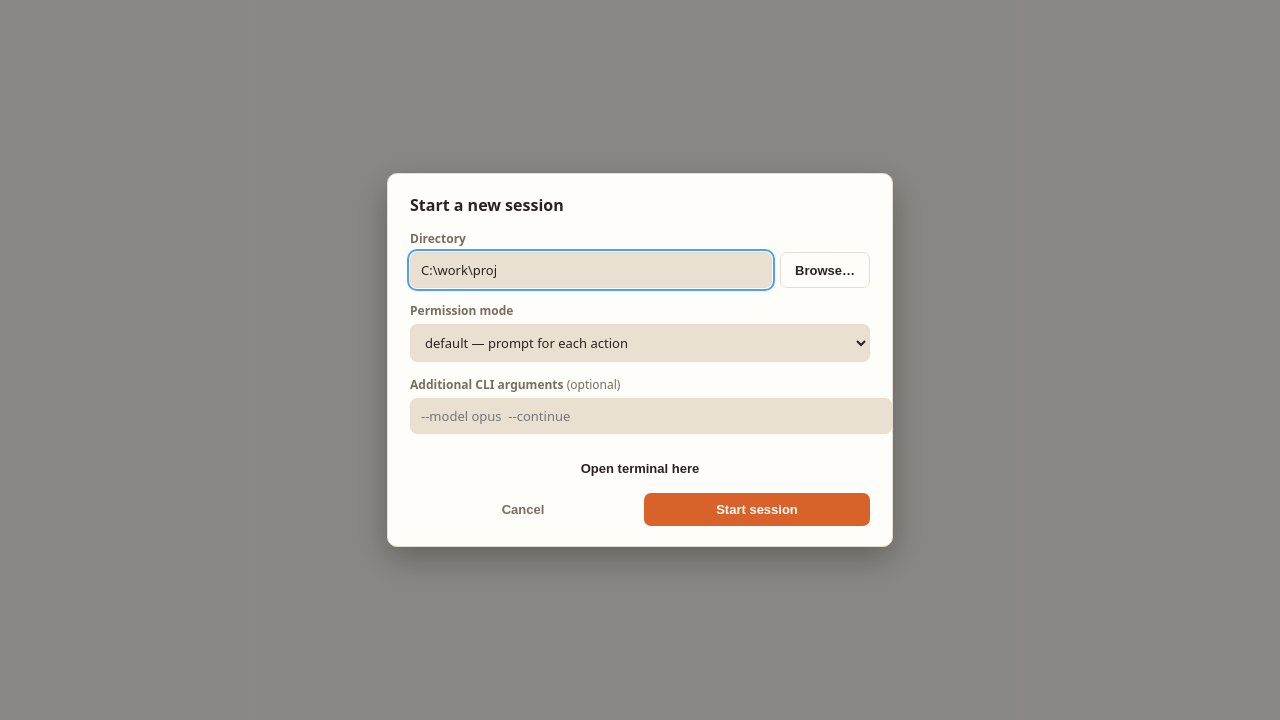
Test case: NewSessionModal (#165) › warns inline when bypassPermissions is selected
Expected: the text "auto-approves every tool call" is not shown
Select "bypassPermissions — auto-approve everything" in the dropdown labelled "Permission mode" at [640, 343], box [410,324,870,362]
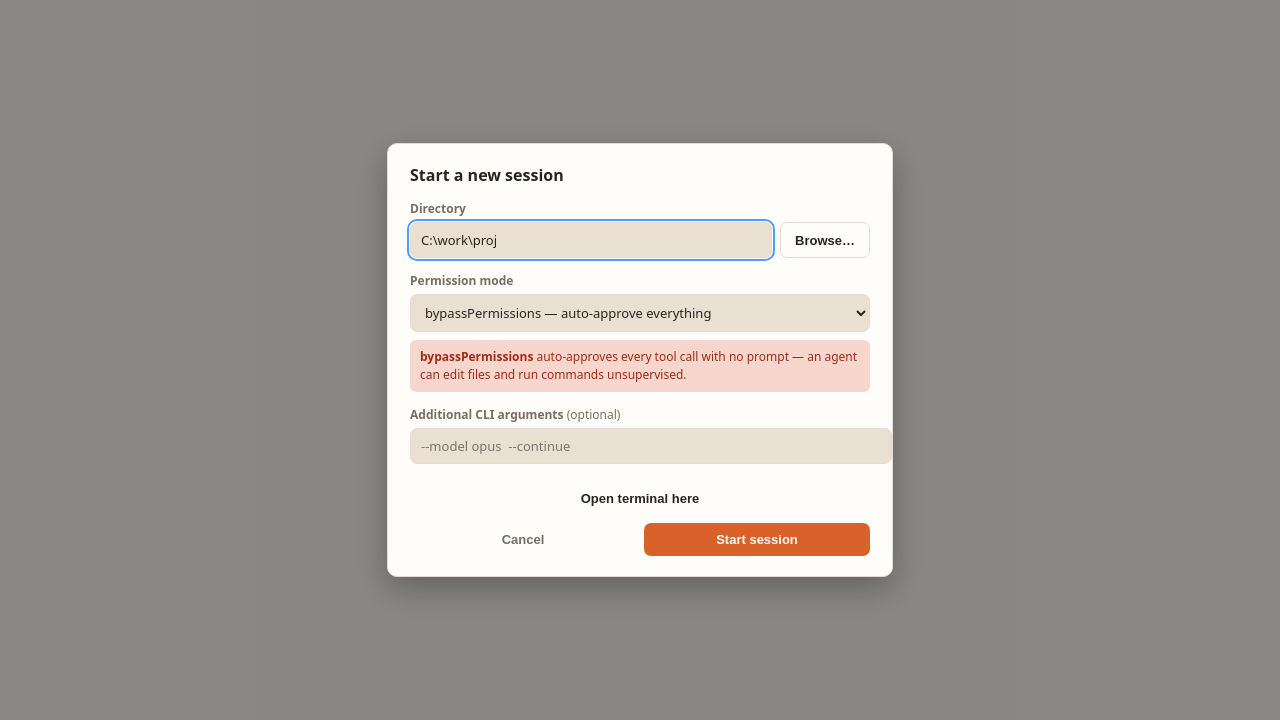
Expected: the text "auto-approves every tool call" is shown, [420,348,857,383]
